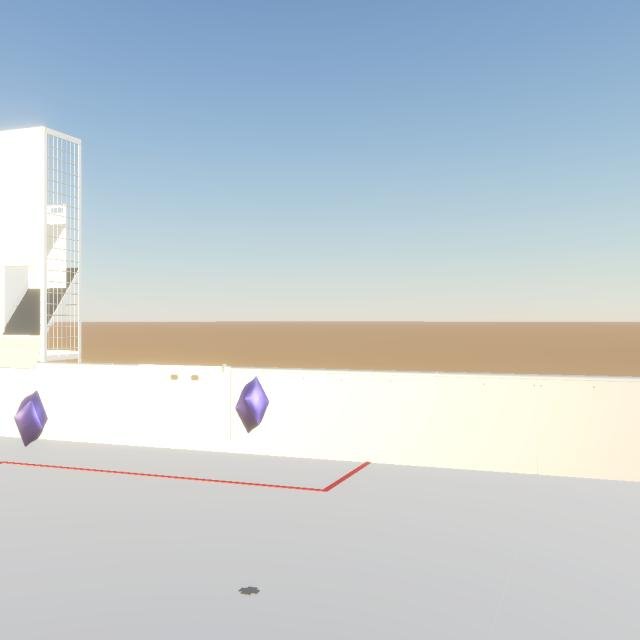frc_cube: (14, 390, 48, 447), (236, 376, 270, 433)
